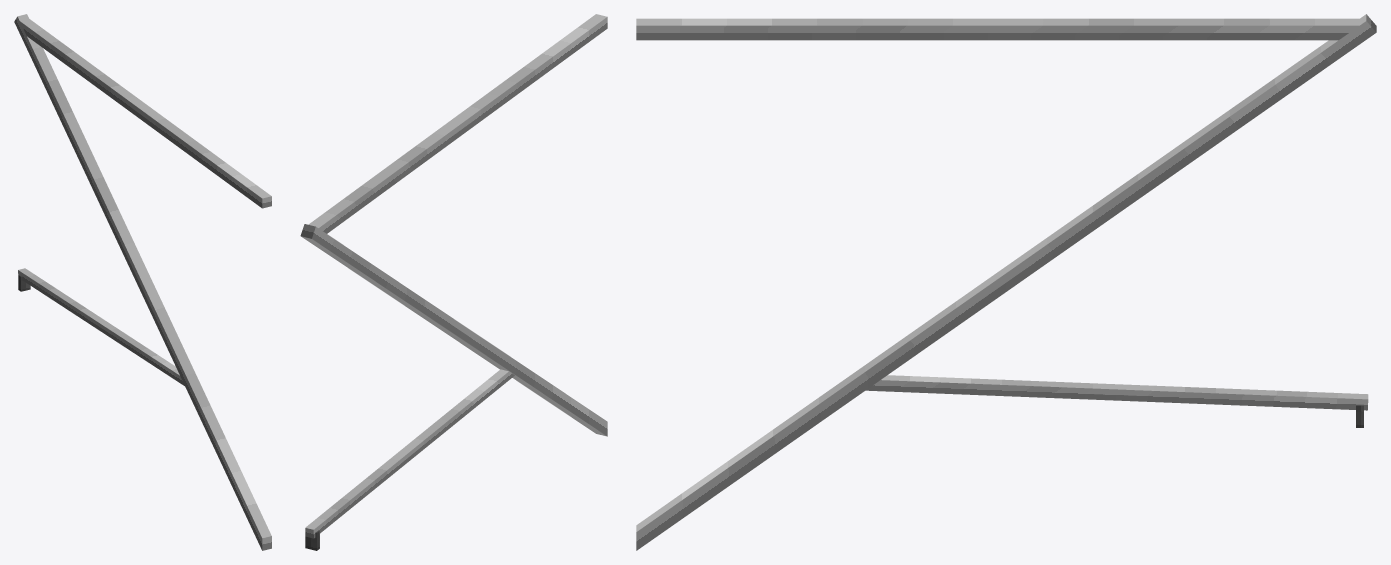
File: cantilever_center_8px.obj
The picture shows the model from 3 angles, left to right: view 1: azimuth 30°, elevation 25°; view 2: azimuth 150°, elevation 25°; view 3: azimuth 270°, elevation 25°; orthographic projection. The views are drawn at different scales.
Visible parts, largest first — view 1: 20110e2f-615d-49a4-a719-e5ef91716113, a529da99-06d1-4f0e-a501-739f450d0070, 0a460983-9b1c-4f1d-9d75-c2fa4d1bee48; view 2: a529da99-06d1-4f0e-a501-739f450d0070, 20110e2f-615d-49a4-a719-e5ef91716113, 0a460983-9b1c-4f1d-9d75-c2fa4d1bee48; view 3: 20110e2f-615d-49a4-a719-e5ef91716113, a529da99-06d1-4f0e-a501-739f450d0070, 0a460983-9b1c-4f1d-9d75-c2fa4d1bee48.
Part boxes in pixels (box(x1,y1,x2,y2)): 20110e2f-615d-49a4-a719-e5ef91716113: box(14, 14, 271, 550); a529da99-06d1-4f0e-a501-739f450d0070: box(20, 19, 271, 208); 0a460983-9b1c-4f1d-9d75-c2fa4d1bee48: box(18, 268, 184, 385); a529da99-06d1-4f0e-a501-739f450d0070: box(308, 14, 607, 233); 20110e2f-615d-49a4-a719-e5ef91716113: box(300, 224, 607, 436); 0a460983-9b1c-4f1d-9d75-c2fa4d1bee48: box(305, 369, 514, 538); 20110e2f-615d-49a4-a719-e5ef91716113: box(636, 14, 1376, 550); a529da99-06d1-4f0e-a501-739f450d0070: box(636, 18, 1359, 40); 0a460983-9b1c-4f1d-9d75-c2fa4d1bee48: box(866, 375, 1368, 410).
Size of the model in its own units: 0.0625 by 2.22 by 2.81.
